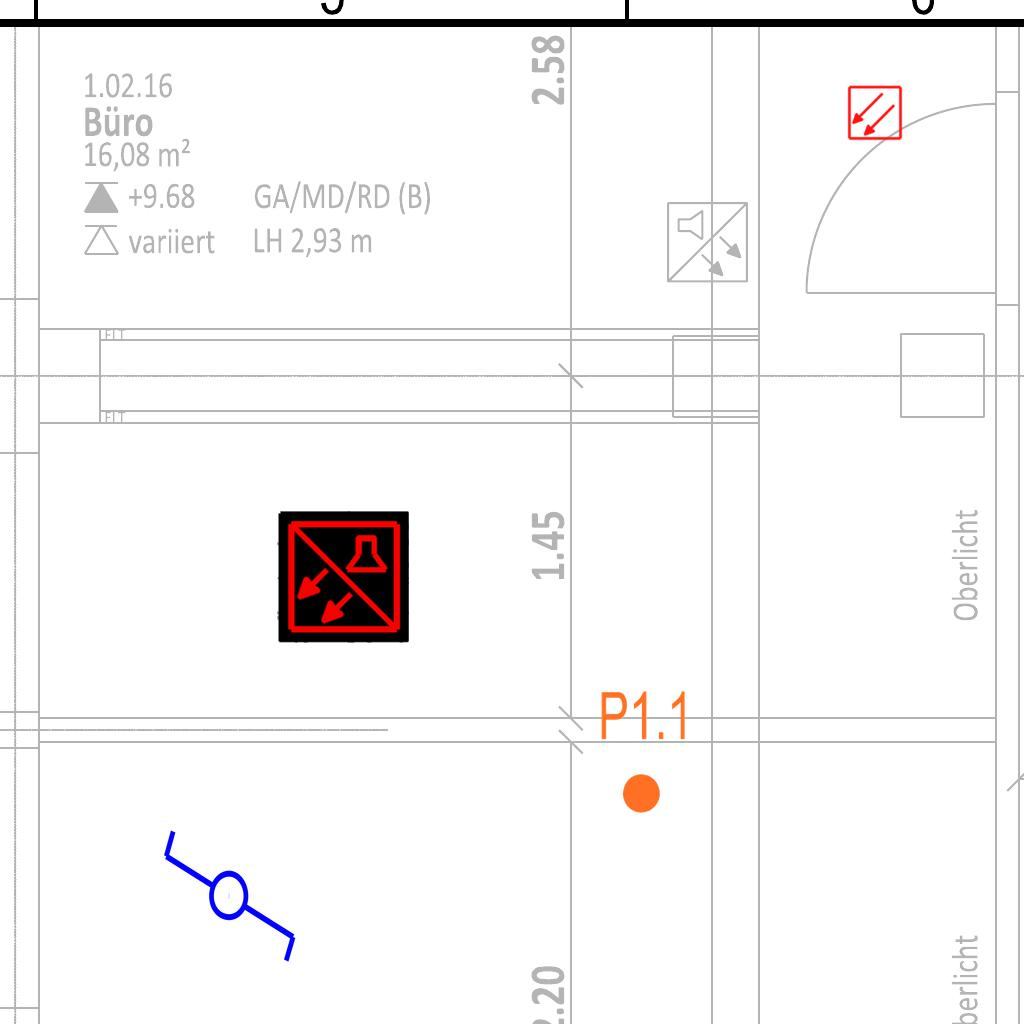Downlight_LED_Einbauleuchten_Flur: (598, 688, 691, 816)
OKW_Multisensormelder_(Kombination_optischer_Rauch-Kahlenmonoxid_Waerme-Melder): (277, 511, 409, 643)
RMO_Rauchmelder_optischer: (847, 85, 903, 141)
Wechselschalter: (159, 809, 303, 966)
